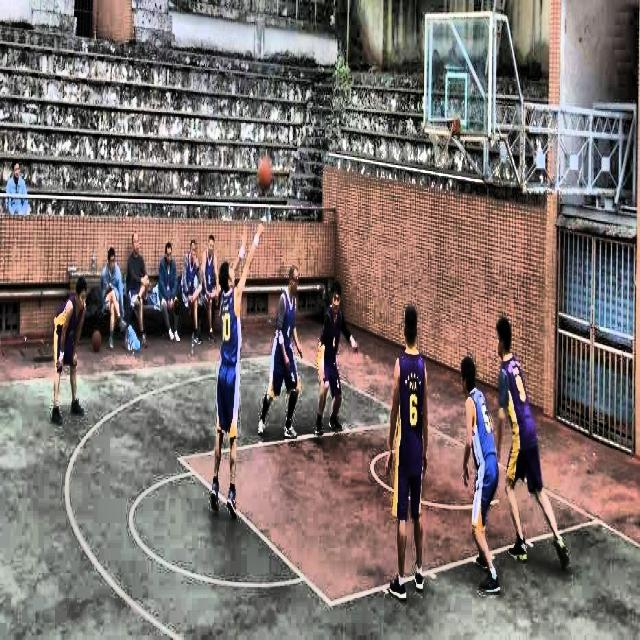board: (258, 156, 272, 190), (91, 328, 101, 352)
